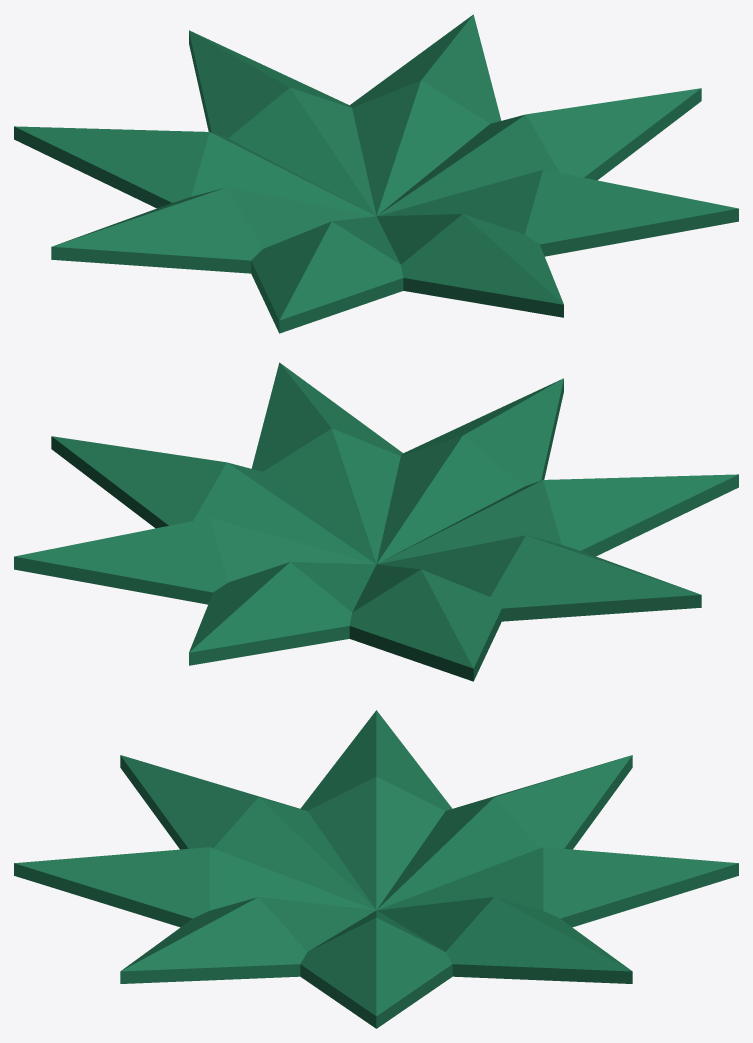
The picture shows the model from 3 angles, top to bottom: view 1: azimuth 30°, elevation 25°; view 2: azimuth 150°, elevation 25°; view 3: azimuth 270°, elevation 25°; orthographic projection. The views are drawn at different scales.
Visible parts, largest first — view 1: 花下折叶_2.001; view 2: 花下折叶_2.001; view 3: 花下折叶_2.001.
Part boxes in pixels (left/top/right/bottom): 花下折叶_2.001: left=14, top=14, right=738, bottom=333; 花下折叶_2.001: left=14, top=362, right=738, bottom=681; 花下折叶_2.001: left=14, top=710, right=738, bottom=1028.
Size of the model in its own units: 0.2088 by 0.0241 by 0.2088.
